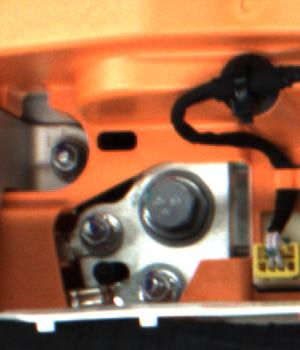nut_b: (141, 166, 214, 250)
screw_s: (134, 266, 190, 302), (45, 135, 91, 178), (77, 212, 119, 252)
